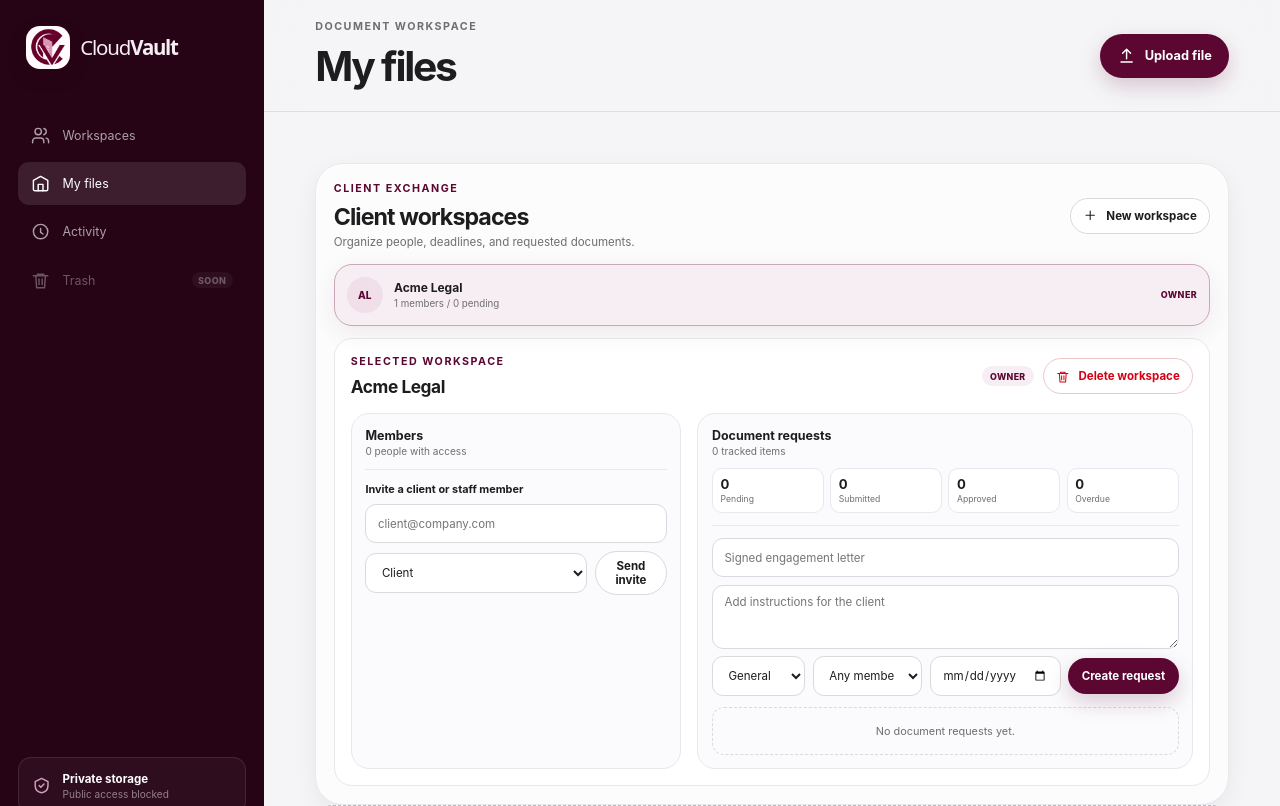
Test case: CloudVault React application › allows an owner to delete a workspace after confirmation
Click the button "Delete workspace" at point(1118, 376), box top-left (1043, 358), bottom-right (1193, 394)
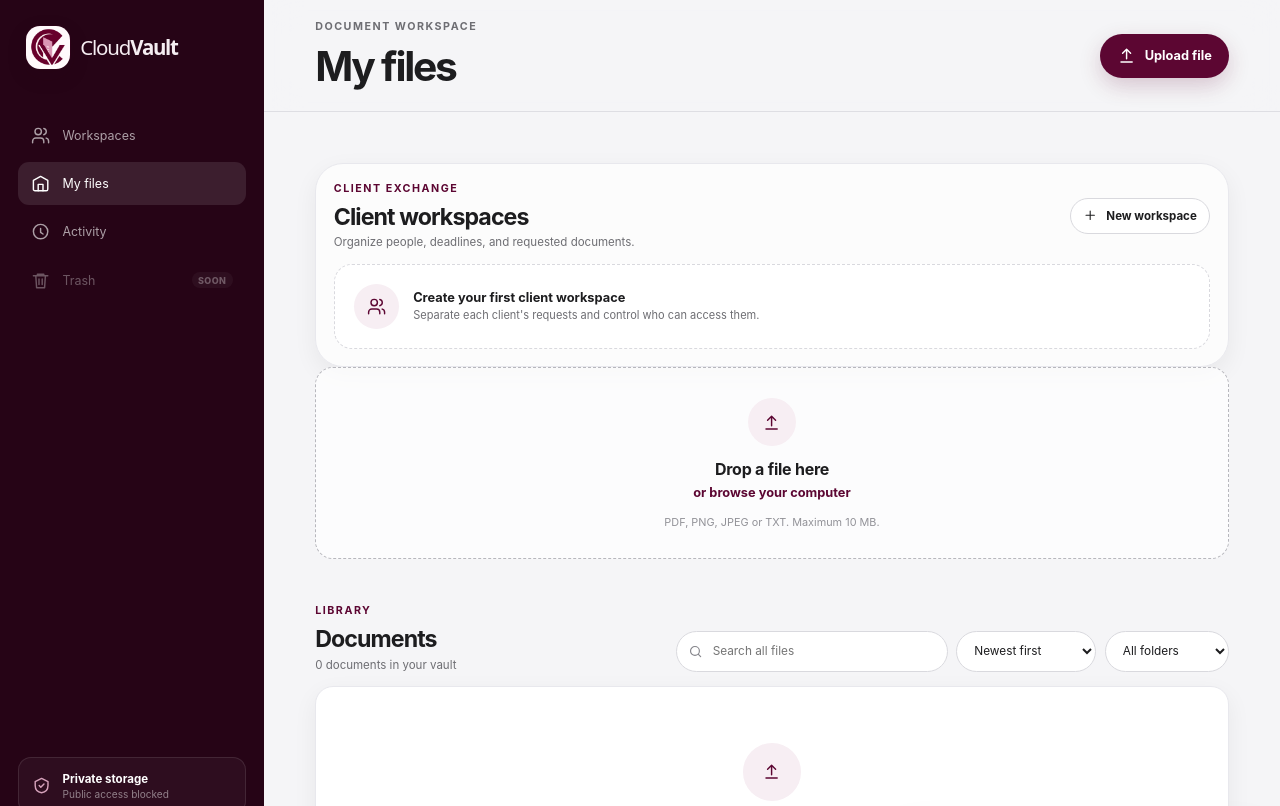
Expected: the text "Create your first client workspace" is shown, top-left (413, 290), bottom-right (625, 305)
